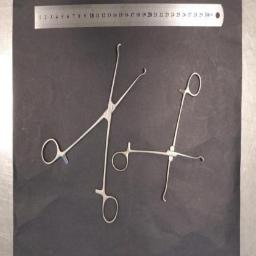Babcock Tissue Forceps: (112, 74, 204, 202)
